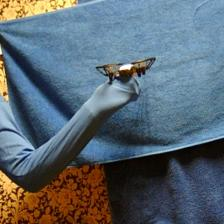drone: (95, 57, 160, 83)
